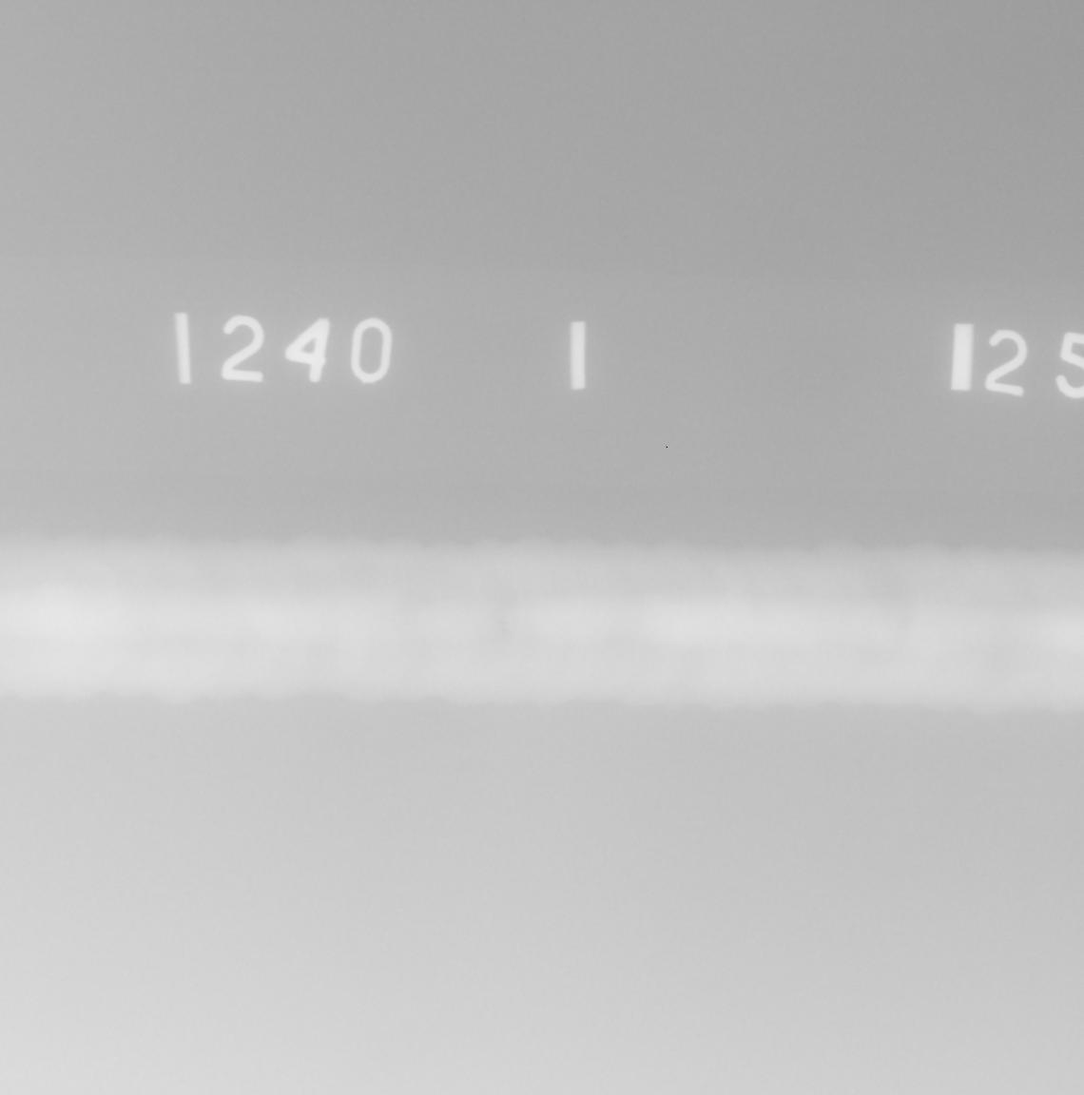Pore/Porosity: (502, 629, 506, 633), (500, 622, 503, 625)
